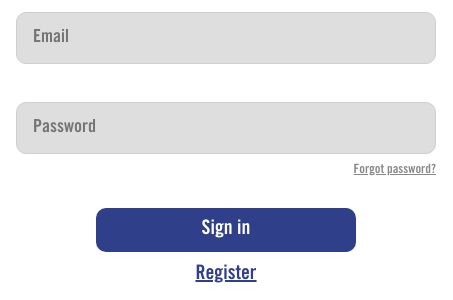
Test: shows error when submitting empty email
Click the button "Sign in" at (226, 230), box [96, 208, 356, 252]
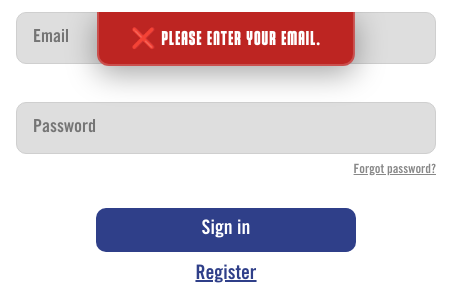
Expected: the text "❌ Please enter your email." is shown, [97, 12, 355, 66]
